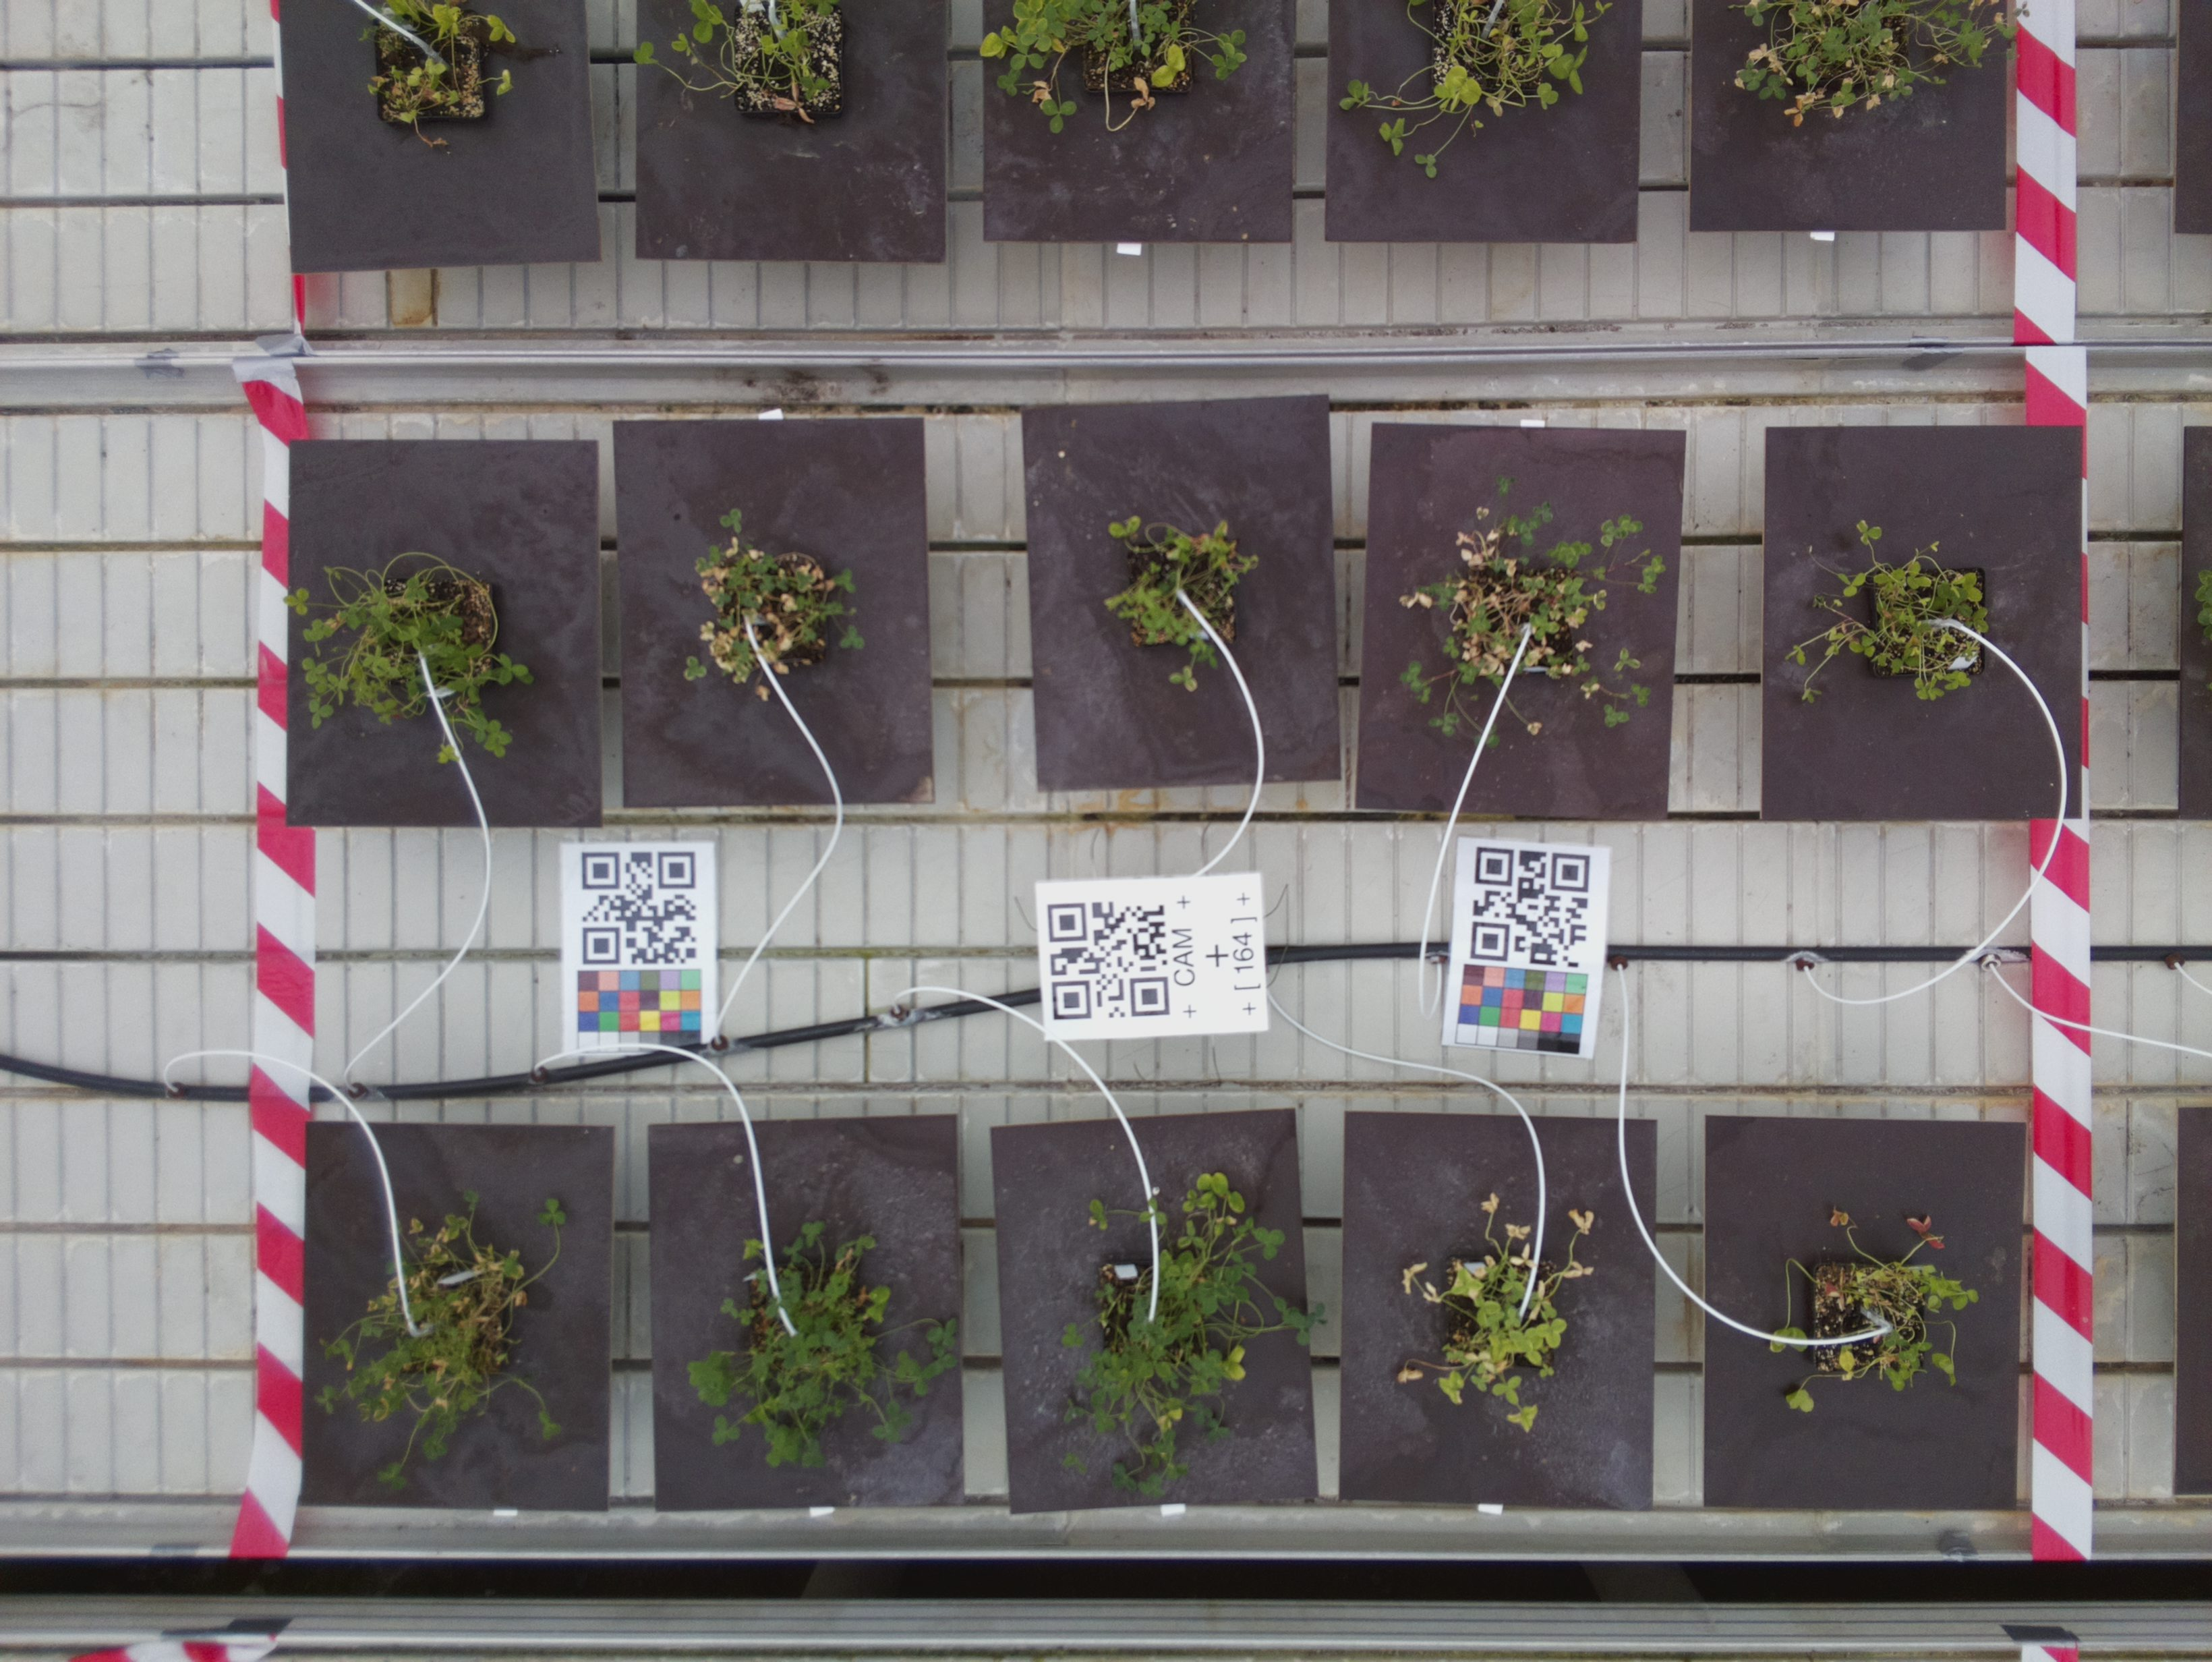POT: (993, 1121, 1334, 1510), (1763, 424, 2085, 821), (646, 1123, 971, 1510), (1706, 1110, 2020, 1510), (1348, 1110, 1657, 1515), (1372, 424, 1685, 822), (616, 419, 936, 803), (304, 1117, 611, 1515), (1021, 409, 1343, 786), (292, 442, 604, 826)
QRCODE: (1028, 876, 1271, 1040)
QRCOLOR: (1440, 838, 1613, 1056), (559, 843, 716, 1051)
